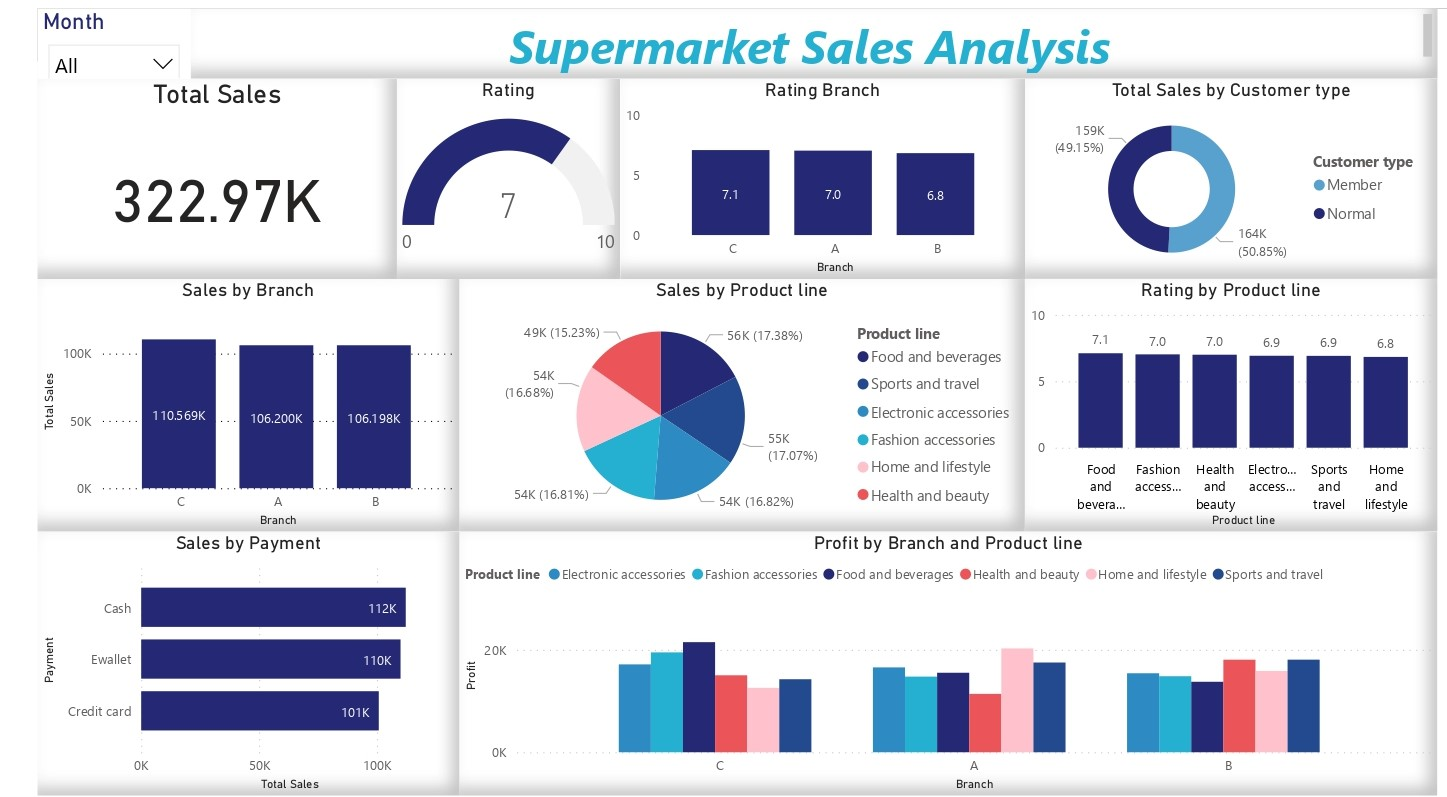

What the dashboard file says about the page in this screenshot:
{"tool":"powerbi","page":{"name":"Page 1","canvas":[1280,720],"ordinal":0},"visuals":[{"type":"clusteredColumnChart","title":" Sales by Branch","fields":{"Category":["supermarket_sales - Sheet1.Branch"],"Y":["supermarket_sales - Sheet1.Total Sales"]},"box":[0,247.1,385.7,231.4],"z":0},{"type":"pieChart","title":" Sales by Product line","fields":{"Category":["supermarket_sales - Sheet1.Product line"],"Y":["supermarket_sales - Sheet1.Total Sales"]},"box":[385.7,247.1,517.1,231.4],"z":1},{"type":"donutChart","fields":{"Category":["supermarket_sales - Sheet1.Customer type"],"Y":["supermarket_sales - Sheet1.Total Sales"]},"box":[902.9,64.3,377.1,182.9],"z":2},{"type":"clusteredBarChart","title":"Sales by Payment","fields":{"Y":["supermarket_sales - Sheet1.Total Sales"],"Category":["supermarket_sales - Sheet1.Payment"]},"box":[0,478.6,385.7,241.4],"z":3},{"type":"card","title":"Total Sales","fields":{"Values":["supermarket_sales - Sheet1.Total Sales"]},"box":[0,64.3,328.6,182.9],"z":4},{"type":"clusteredColumnChart","fields":{"Category":["supermarket_sales - Sheet1.Branch"],"Series":["supermarket_sales - Sheet1.Product line"],"Y":["supermarket_sales - Sheet1.Profit"]},"box":[385.7,478.6,894.3,241.4],"z":5},{"type":"clusteredColumnChart","title":"Rating Branch","fields":{"Category":["supermarket_sales - Sheet1.Branch"],"Y":["supermarket_sales - Sheet1.Average Rating"]},"box":[532.9,64.3,370,182.9],"z":6},{"type":"gauge","title":" Rating","fields":{"Y":["supermarket_sales - Sheet1.Average Rating"]},"box":[328.6,64.3,204.3,182.9],"z":7},{"type":"clusteredColumnChart","title":"Rating by Product line","fields":{"Category":["supermarket_sales - Sheet1.Product line"],"Y":["supermarket_sales - Sheet1.Average Rating"]},"box":[902.9,247.1,377.1,231.4],"z":8},{"type":"textbox","box":[140,0,1140,64.3],"z":9},{"type":"slicer","title":"Month","fields":{"Values":["supermarket_sales - Sheet1.MonthName"]},"box":[0,0,140,64.3],"z":10}]}

Visuals, with their boxes in screenshot pixels (x1, y1, x2, y2), scaled from the page's 1280x720 canvas onto the 1447x797 screenshot:
" Sales by Branch" clusteredColumnChart: {"left": 0, "top": 274, "right": 436, "bottom": 530}
" Sales by Product line" pieChart: {"left": 436, "top": 274, "right": 1021, "bottom": 530}
donutChart - supermarket_sales - Sheet1.Customer type x supermarket_sales - Sheet1.Total Sales: {"left": 1021, "top": 71, "right": 1446, "bottom": 274}
"Sales by Payment" clusteredBarChart: {"left": 0, "top": 530, "right": 436, "bottom": 796}
"Total Sales" card: {"left": 0, "top": 71, "right": 371, "bottom": 274}
clusteredColumnChart - supermarket_sales - Sheet1.Branch x supermarket_sales - Sheet1.Product line: {"left": 436, "top": 530, "right": 1446, "bottom": 796}
"Rating Branch" clusteredColumnChart: {"left": 602, "top": 71, "right": 1021, "bottom": 274}
" Rating" gauge: {"left": 371, "top": 71, "right": 602, "bottom": 274}
"Rating by Product line" clusteredColumnChart: {"left": 1021, "top": 274, "right": 1446, "bottom": 530}
textbox: {"left": 158, "top": 0, "right": 1446, "bottom": 71}
"Month" slicer: {"left": 0, "top": 0, "right": 158, "bottom": 71}
